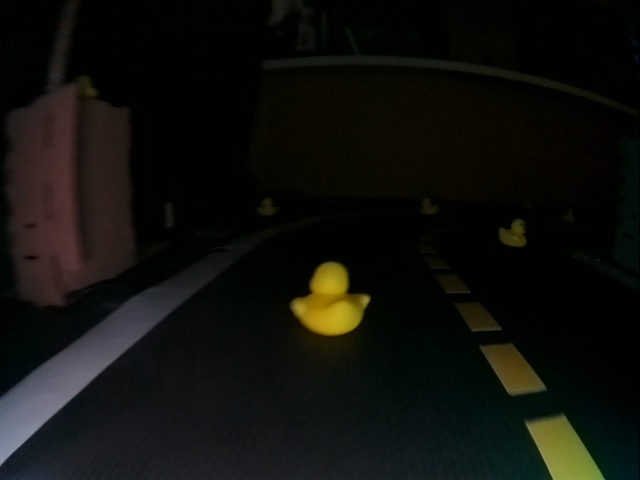Duckie: (292, 265, 368, 336), (499, 220, 527, 246), (74, 77, 98, 98), (258, 197, 274, 215), (420, 198, 434, 212)
